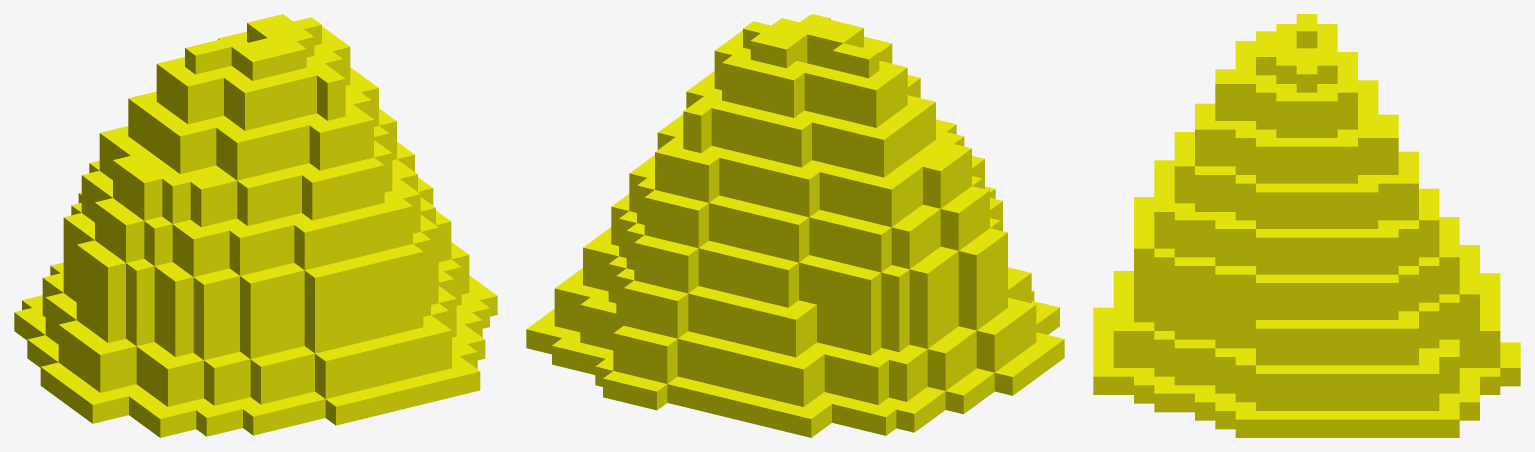
The model's file is voxel-wizards-stone.glb.
3 views of the same model, side by side, from view 1: azimuth 30°, elevation 25°; view 2: azimuth 150°, elevation 25°; view 3: azimuth 270°, elevation 25° (orthographic). The views are drawn at different scales.
Parts seen in each view (by area): view 1: VS_Wizards_Stone; view 2: VS_Wizards_Stone; view 3: VS_Wizards_Stone.
Part boxes in pixels (x1=…): VS_Wizards_Stone: x1=14, y1=14, x2=497, y2=437; VS_Wizards_Stone: x1=526, y1=14, x2=1064, y2=437; VS_Wizards_Stone: x1=1093, y1=14, x2=1520, y2=437.
Bounding box in the file's own units: 2.3 × 1.6 × 2.1.
